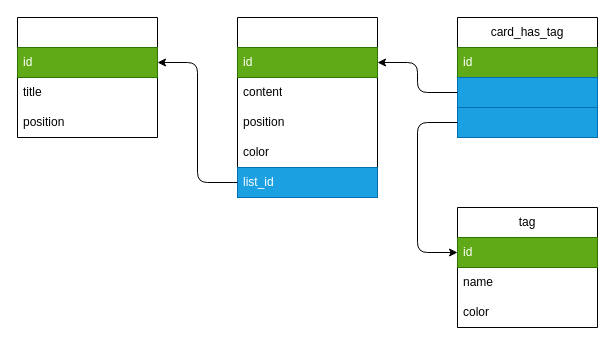
Some shapes in this 615 by 345 pixel diagram are drawn without their labels. Here are the shapes that lost their labels. From the top down, the box of each, then its label:
(16, 16, 158, 138): list
(456, 76, 598, 108): card_id
(236, 16, 378, 198): card
(456, 106, 598, 138): tag_id
